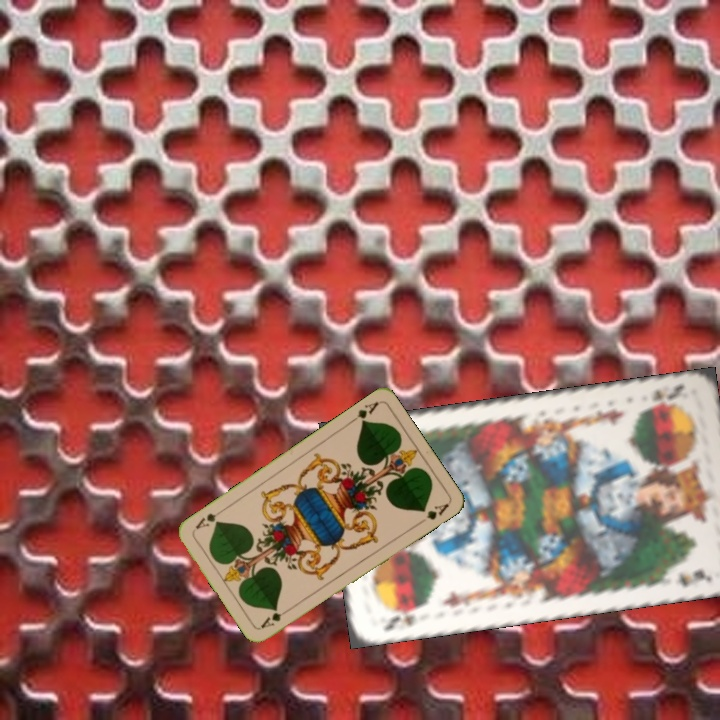GA: (345, 397, 381, 427), (256, 604, 293, 631)
SK: (379, 603, 428, 634), (640, 380, 687, 411)
